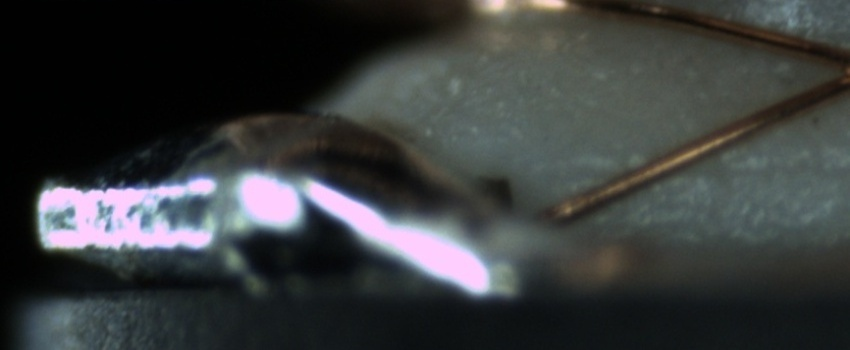DL: (563, 135, 849, 198)
